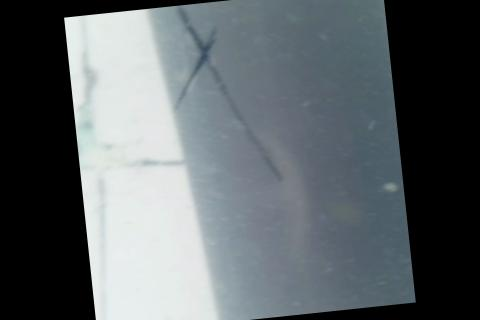keretakan: (155, 0, 286, 193)
